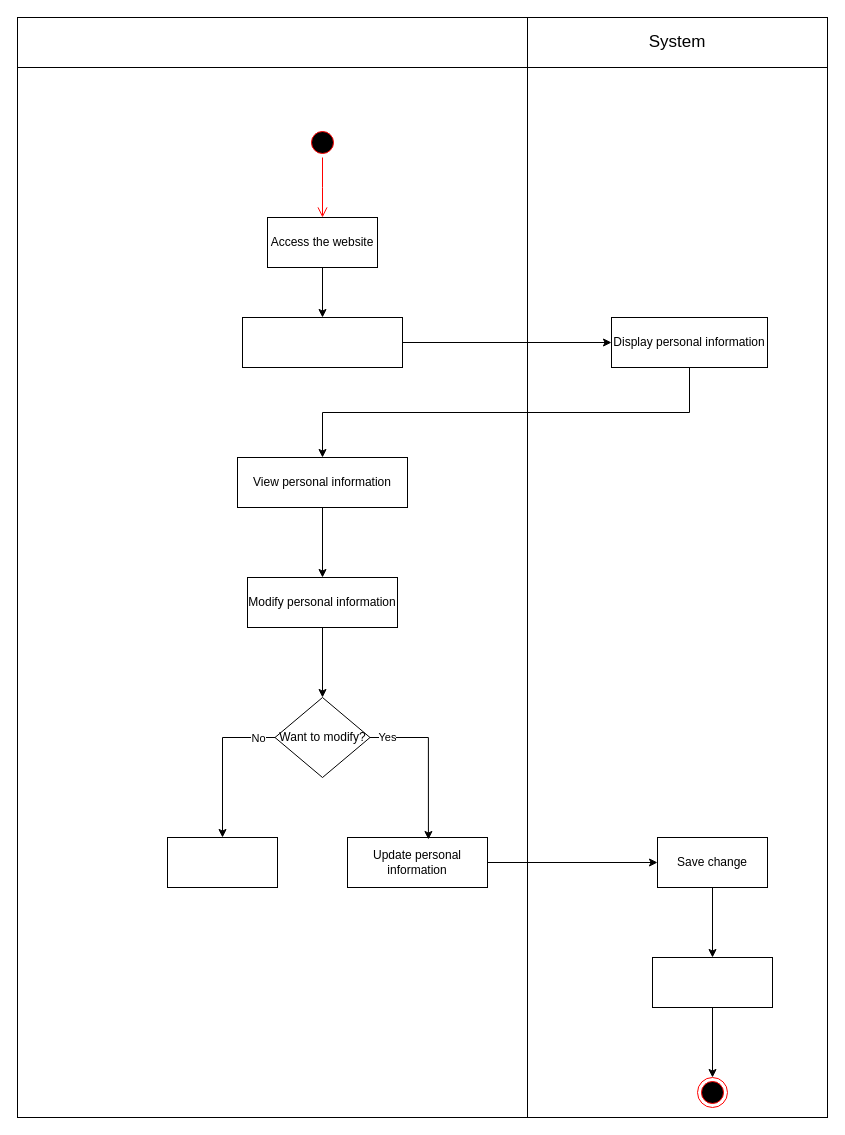
This 845x1135 diagram has some shape labels left out. Here are the shapes that lost their labels. From the top down, the box of each, then its label:
(16, 16, 528, 68): User
(242, 316, 402, 368): Access manage personal information
(166, 836, 278, 888): Cancel
(652, 956, 772, 1008): Display updated personal information
